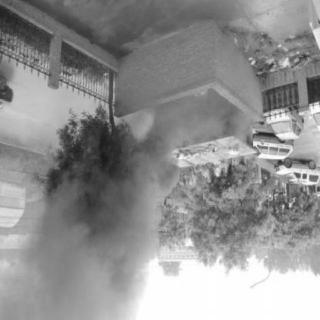Fire: (187, 88, 217, 104)
Smoke: (64, 154, 170, 320), (159, 109, 249, 142)
